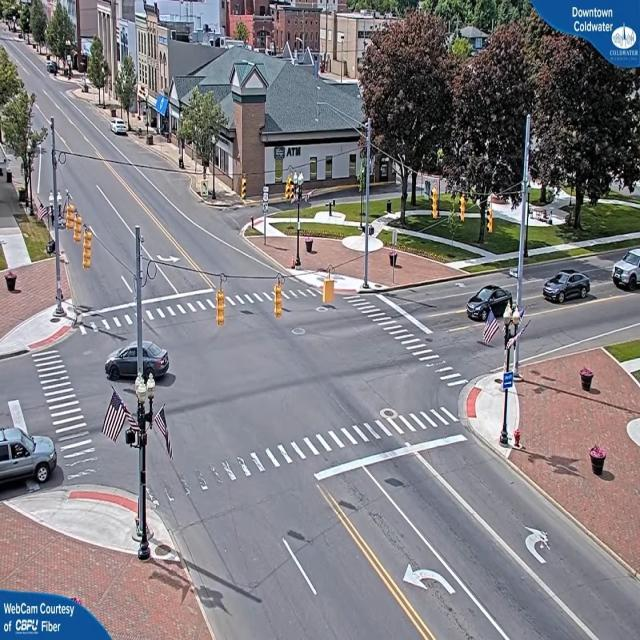car: (0, 427, 59, 497), (466, 282, 521, 330), (544, 268, 594, 303), (108, 345, 154, 381), (611, 249, 640, 291), (112, 122, 131, 138)
